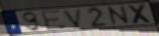2: (88, 7, 109, 28)
9: (21, 11, 43, 32)
E: (40, 9, 68, 31)
N: (106, 4, 133, 27)
V: (61, 8, 83, 29)
X: (126, 3, 155, 25)
